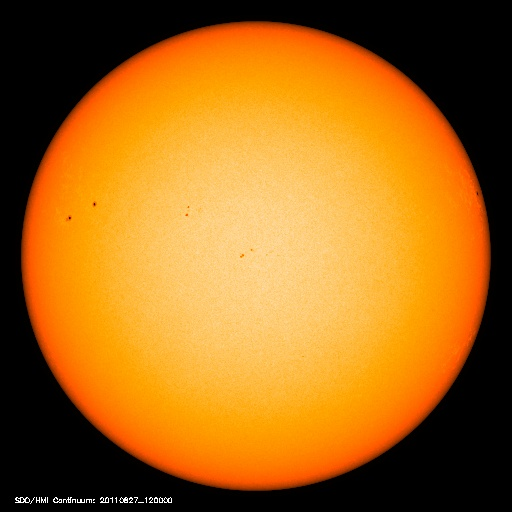sunspot: (62, 194, 105, 230), (230, 242, 266, 269), (171, 201, 210, 224), (465, 179, 492, 207)
